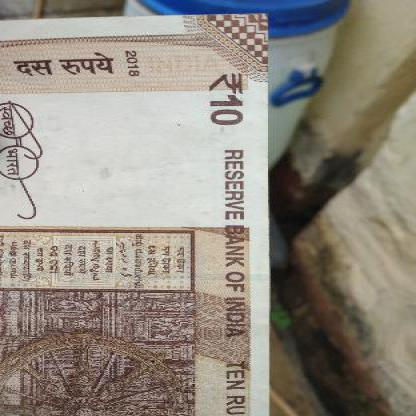New10Back: (0, 13, 267, 415)
